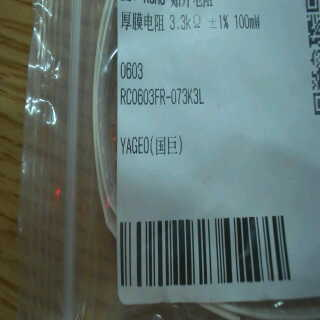3.3kO: (165, 9, 206, 34)
